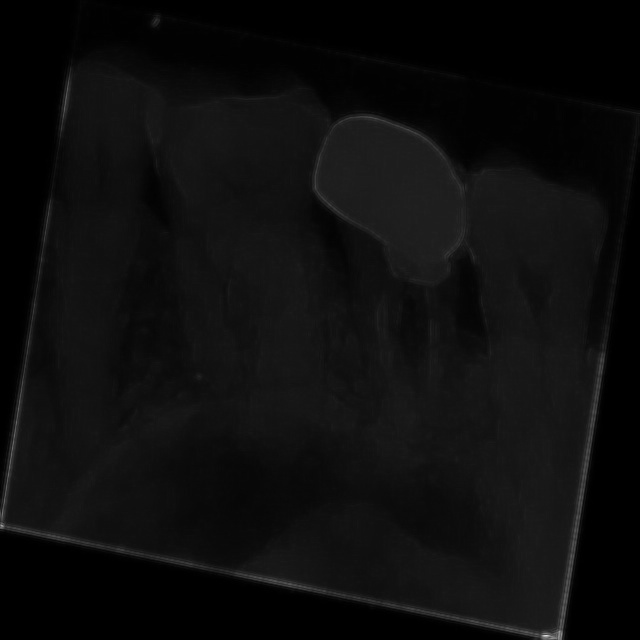Class 1- complete endodontic treatment: (247, 91, 525, 477)
